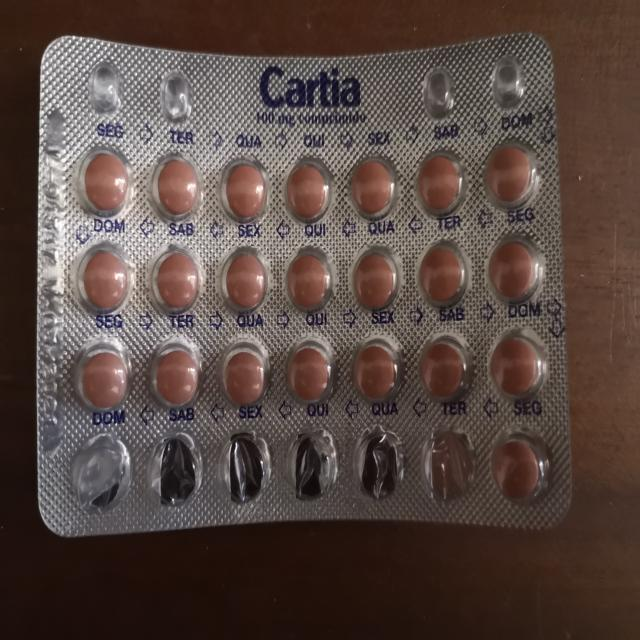Empty: (415, 420, 480, 504), (145, 427, 207, 511), (284, 422, 343, 508), (216, 427, 276, 511), (349, 418, 405, 506), (72, 433, 132, 514)
Pill: (478, 132, 547, 215), (72, 138, 137, 224), (483, 231, 548, 312), (72, 336, 136, 418), (72, 236, 134, 320), (486, 329, 556, 403), (490, 426, 548, 512), (142, 337, 205, 415), (214, 245, 276, 323), (147, 242, 206, 323), (215, 143, 271, 226), (344, 148, 404, 225), (279, 146, 334, 229), (346, 240, 405, 317), (414, 333, 474, 408), (217, 338, 277, 412), (148, 146, 204, 225), (282, 334, 341, 408), (282, 243, 341, 316), (415, 240, 474, 311), (409, 146, 468, 216), (348, 336, 407, 406)
